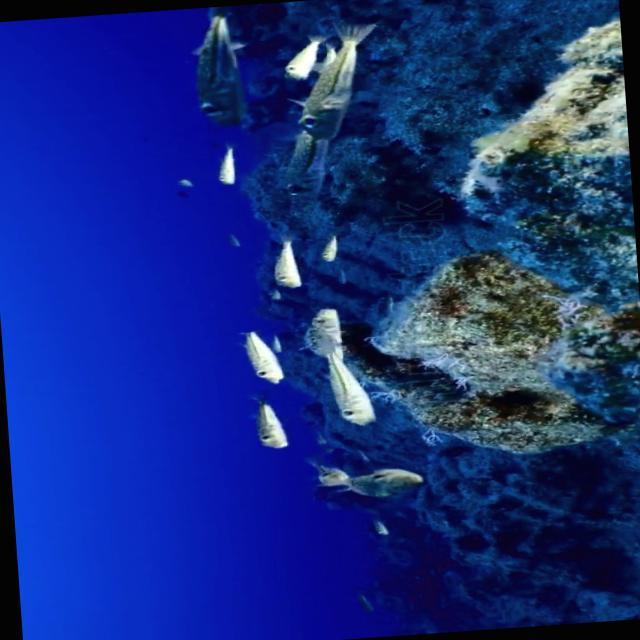Balon Baligi: (280, 13, 382, 135), (178, 13, 260, 127), (318, 345, 378, 430), (338, 464, 428, 504), (245, 392, 295, 450), (234, 329, 284, 384), (258, 234, 302, 293), (210, 145, 243, 187), (309, 233, 349, 264)
